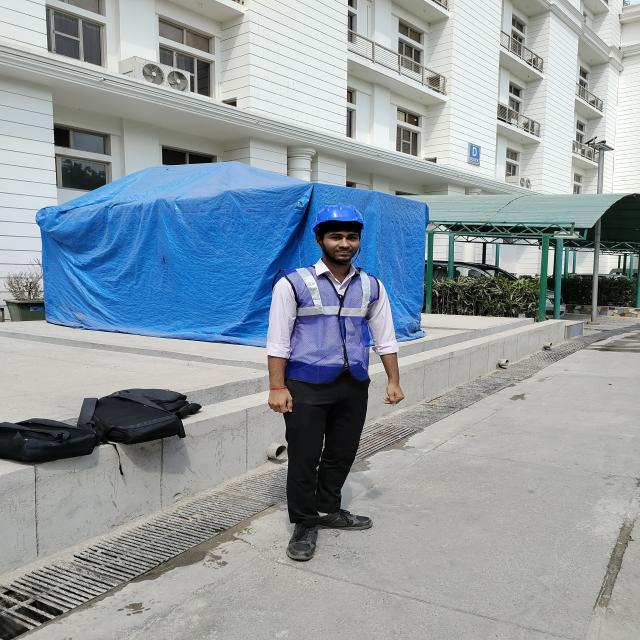safe: (267, 204, 392, 561)
